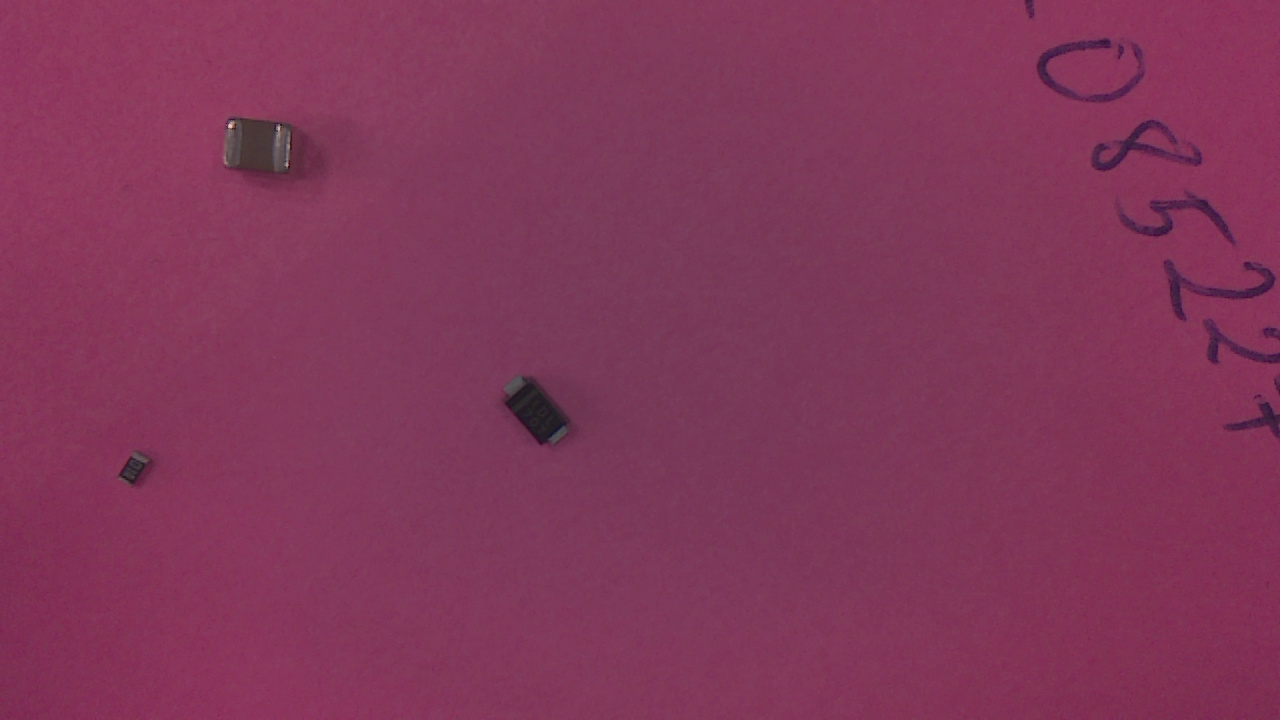Condensator: (222, 123, 305, 183)
Diode: (506, 380, 577, 458)
Resistor: (120, 456, 155, 494)
